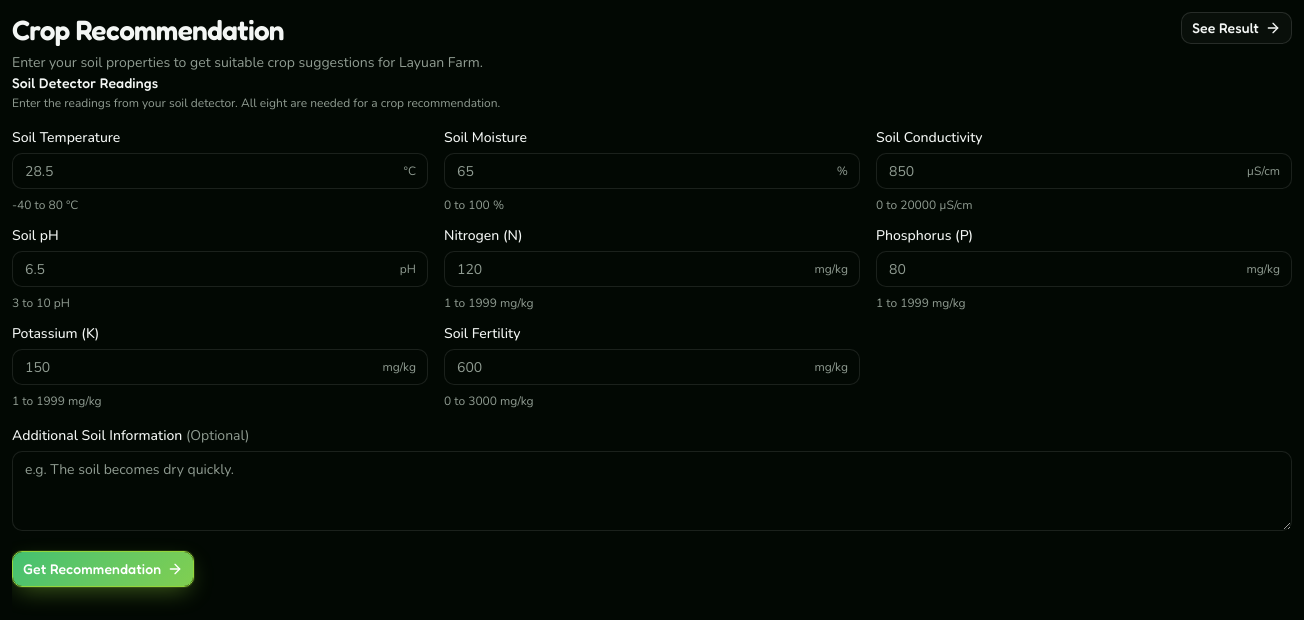
SoilRecommendationForm past results › opens the newest result and lists every saved one, newest first
The image size is (1304, 620).
Click the button "See Result": point(1237, 28) [1181,12,1292,44]
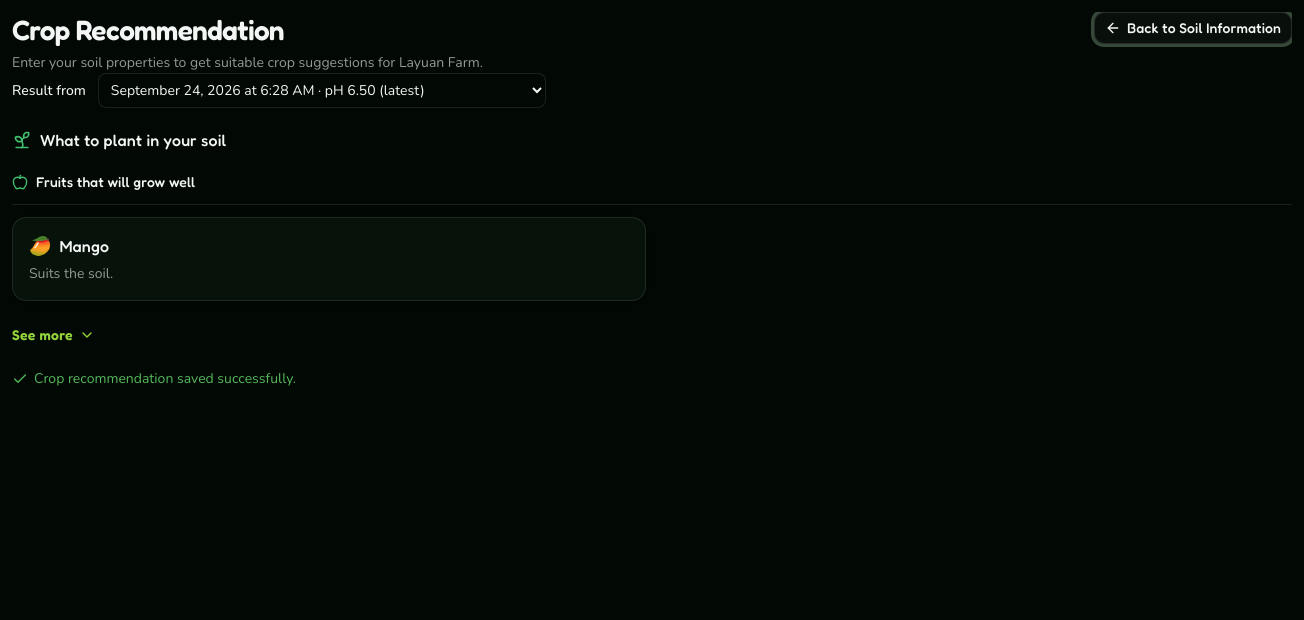
expect the text "Mango" is shown: met, box [60,234,109,258]
